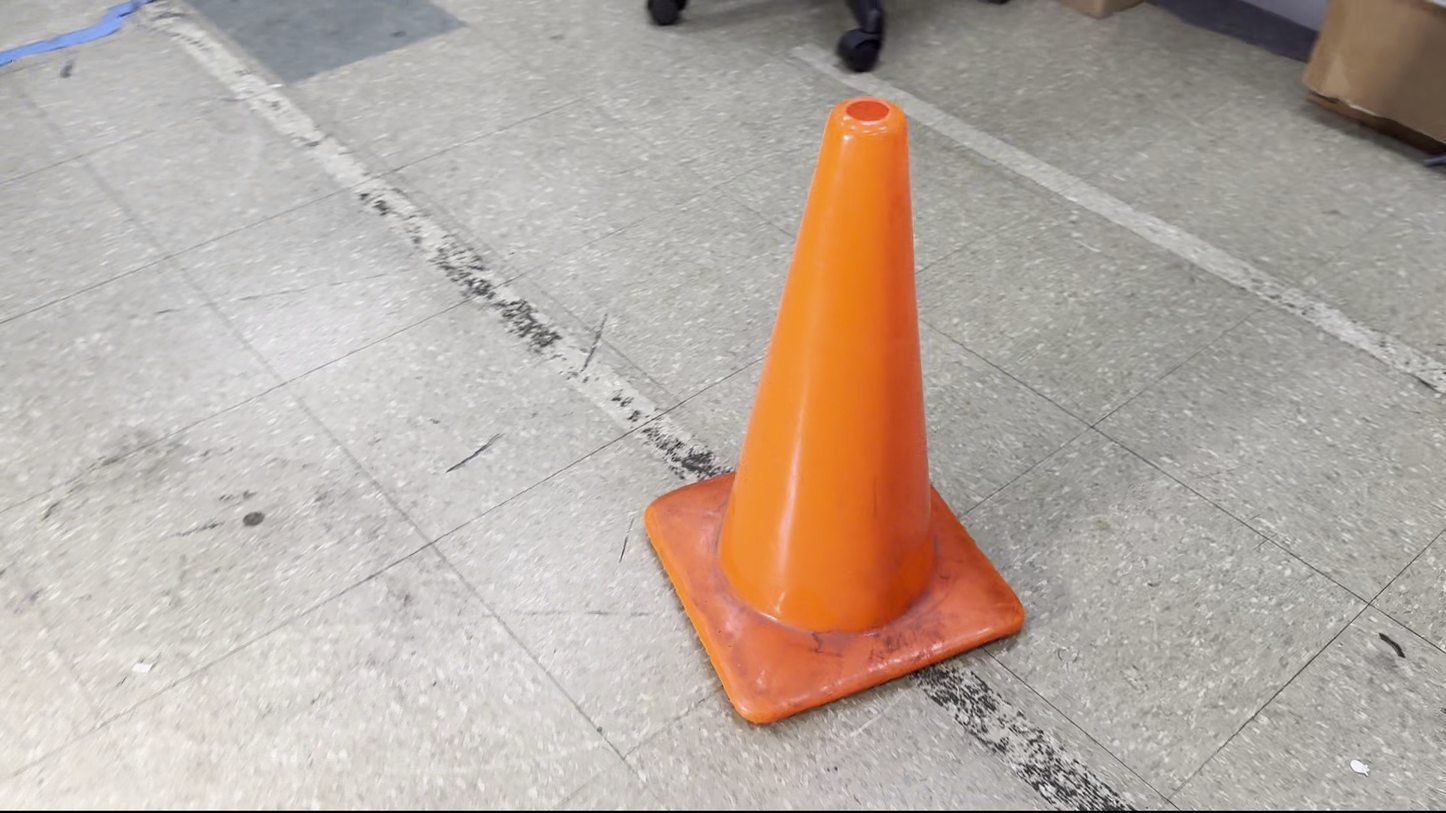traffic_cone: (643, 95, 1026, 726)
